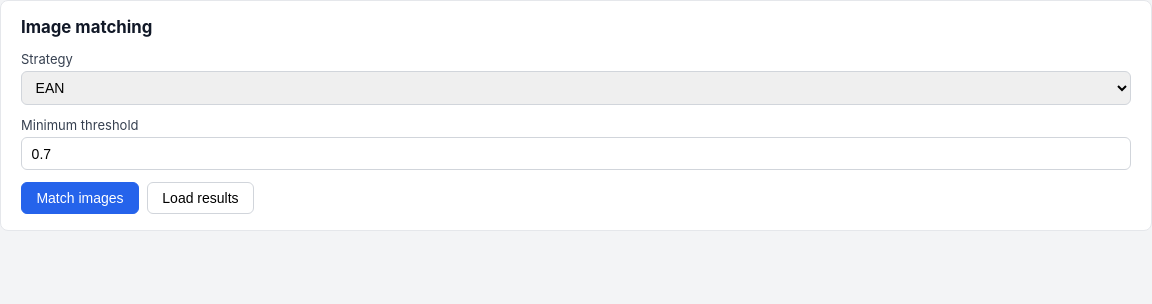
ImageMatchingPanel › loads existing matching results
Click the button "Load results": (200, 198) left=147, top=182, right=254, bottom=214
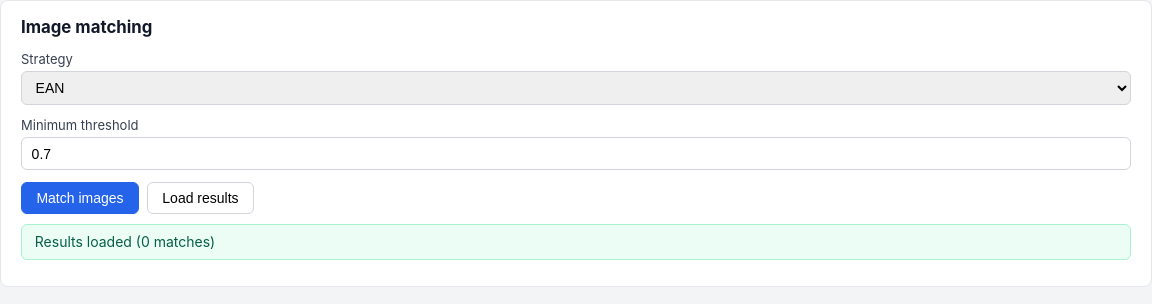
Result: the text "Results loaded (0 matches)" is shown at left=21, top=224, right=1131, bottom=260
